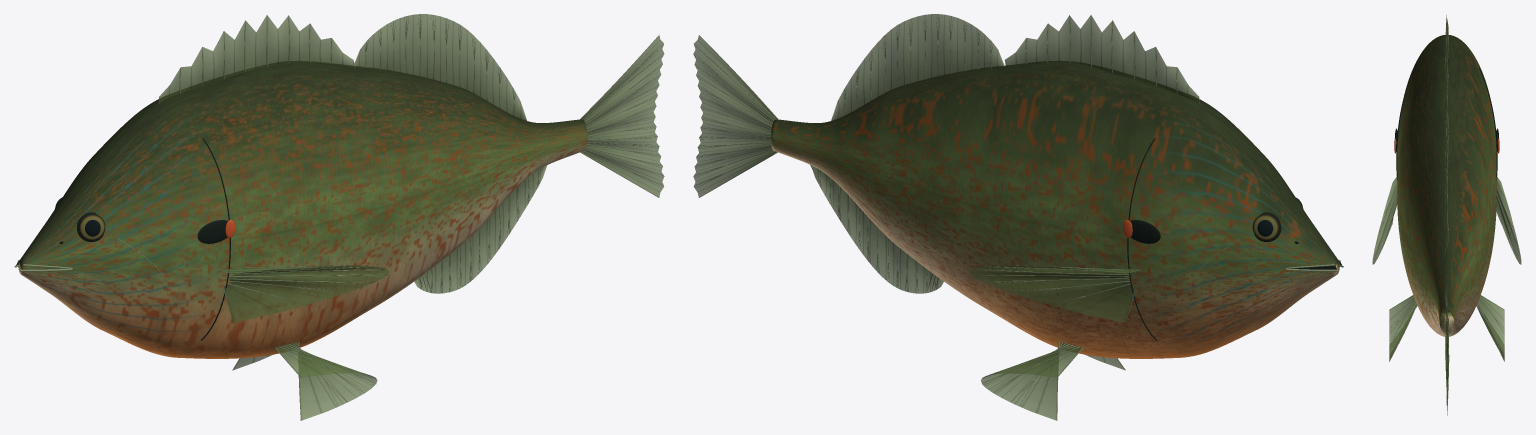
The model's file is pumpkinseed.glb.
The picture shows the model from 3 angles, left to right: view 1: azimuth 30°, elevation 25°; view 2: azimuth 150°, elevation 25°; view 3: azimuth 270°, elevation 25°; orthographic projection. The views are drawn at different scales.
Parts seen in each view (by area): view 1: pumpkinseed specimen; view 2: pumpkinseed specimen; view 3: pumpkinseed specimen.
Boxes of the visible parts, x1,y1,x2,y2 form: pumpkinseed specimen: (14, 14, 664, 420); pumpkinseed specimen: (693, 14, 1343, 420); pumpkinseed specimen: (1372, 15, 1521, 415).
Size of the model in its own units: 2.2 by 1.24 by 0.5236.
Materials: 12 (6 with a texture image).
